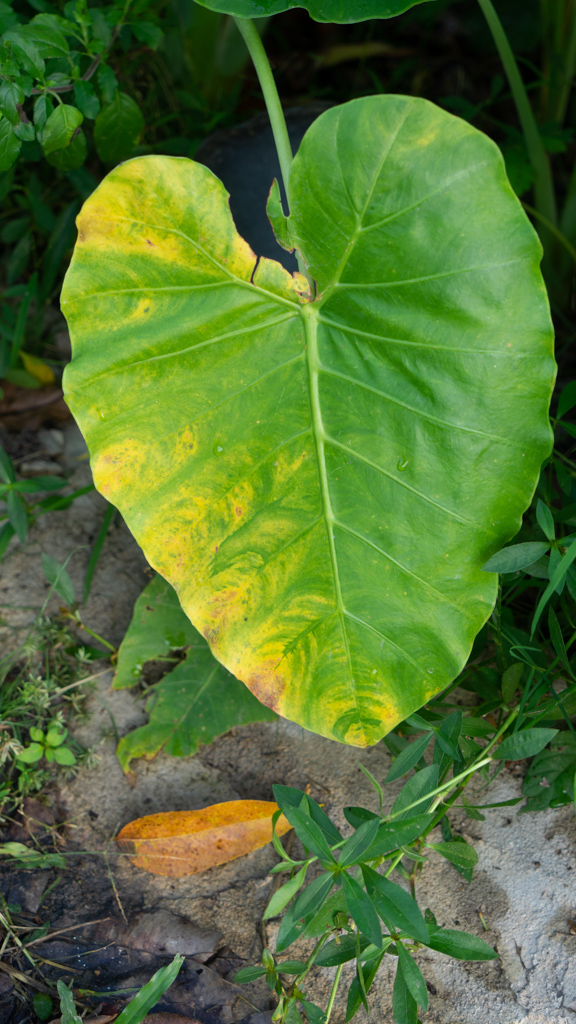Pepper yellow leaf: (54, 127, 439, 793), (65, 377, 344, 751), (63, 141, 263, 300), (351, 672, 437, 730)
